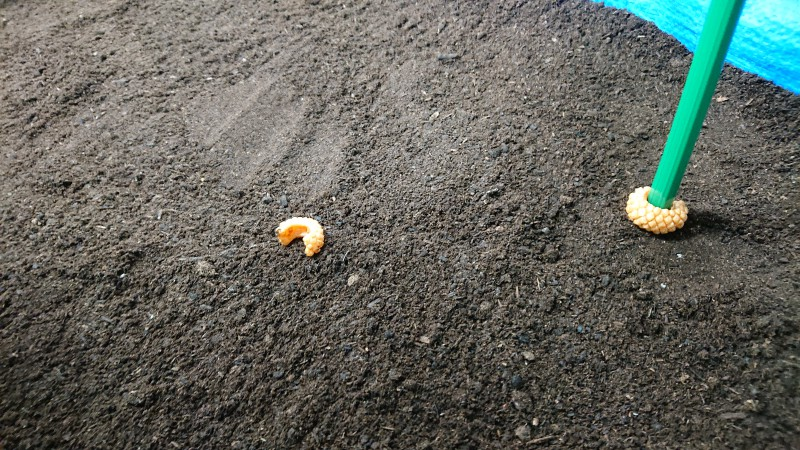eggs: (624, 183, 688, 234), (270, 210, 329, 258)
